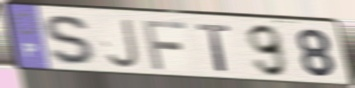8: (296, 28, 339, 80)
9: (245, 23, 291, 79)
F: (141, 19, 189, 72)
J: (104, 17, 142, 71)
S: (42, 13, 102, 69)
T: (195, 22, 234, 74)
